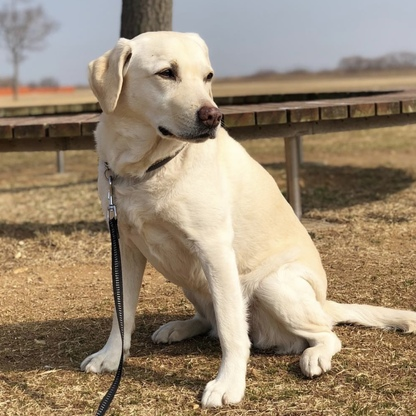labrado: (75, 27, 416, 411)
